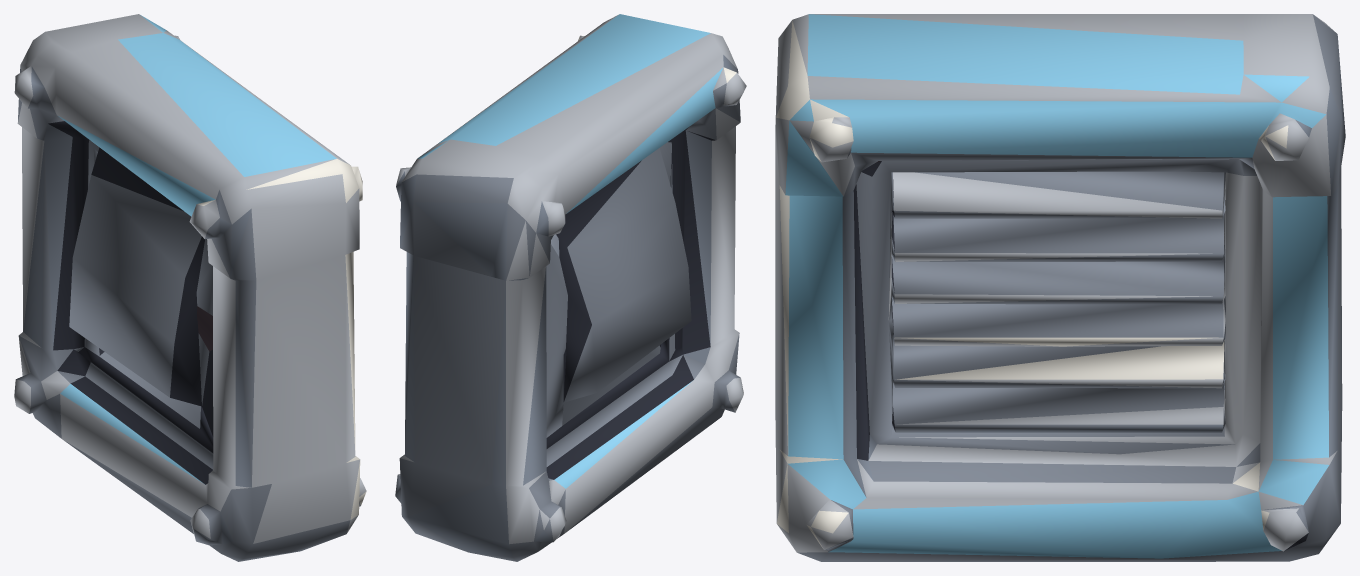
The model's file is SM_ac_wall_teal.glb.
3 renders of one model, left to right at view 1: azimuth 30°, elevation 25°; view 2: azimuth 150°, elevation 25°; view 3: azimuth 270°, elevation 25°, orthographic. The views are drawn at different scales.
Visible parts, largest first — view 1: SM_ac_wall_teal; view 2: SM_ac_wall_teal; view 3: SM_ac_wall_teal.
Part boxes in pixels (bbox=[...]): SM_ac_wall_teal: bbox=[14, 14, 366, 561]; SM_ac_wall_teal: bbox=[395, 14, 746, 561]; SM_ac_wall_teal: bbox=[775, 14, 1345, 561].
Bounding box in the file's own units: 0.2033 × 0.45 × 0.4678.
1 material, 1 textured.
